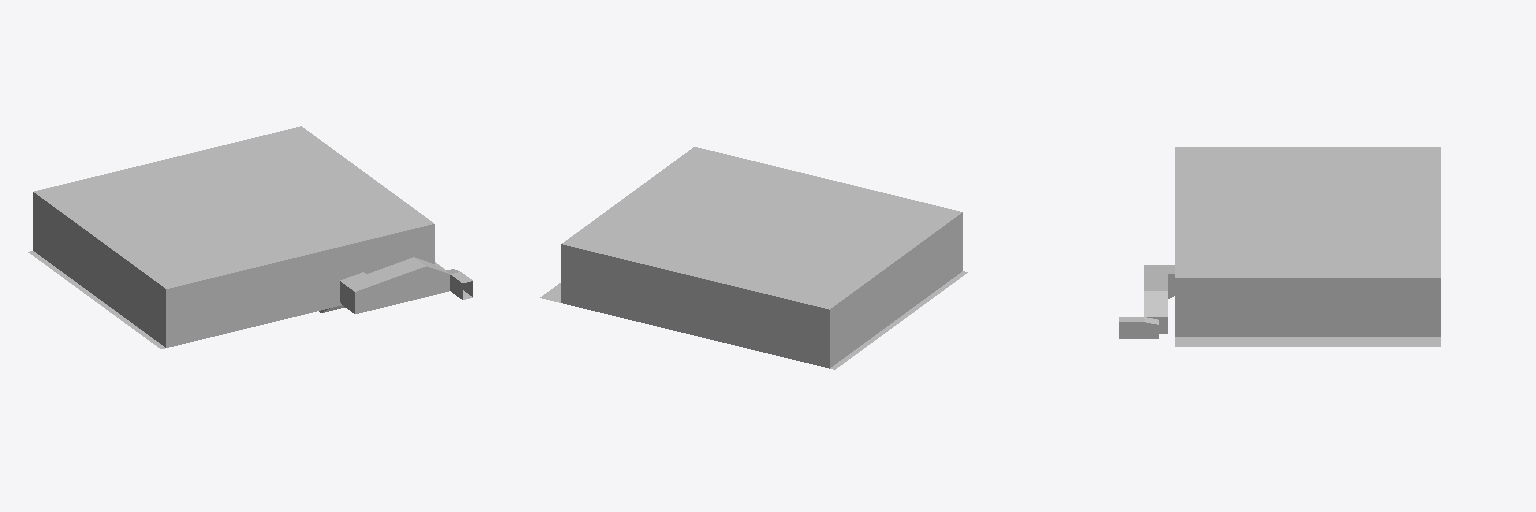
File: bedSecret.obj
The picture shows the model from 3 angles: view 1: azimuth 30°, elevation 25°; view 2: azimuth 150°, elevation 25°; view 3: azimuth 270°, elevation 25°; orthographic projection.
Parts seen in each view (by area): view 1: bedroom#2.004_Mesh.002; view 2: bedroom#2.004_Mesh.002; view 3: bedroom#2.004_Mesh.002.
Boxes of the visible parts, <box> form: bedroom#2.004_Mesh.002: <box>28,126,472,348</box>; bedroom#2.004_Mesh.002: <box>540,147,967,369</box>; bedroom#2.004_Mesh.002: <box>1119,147,1440,346</box>.
Size of the model in its own units: 4.74 by 1.23 by 4.48.